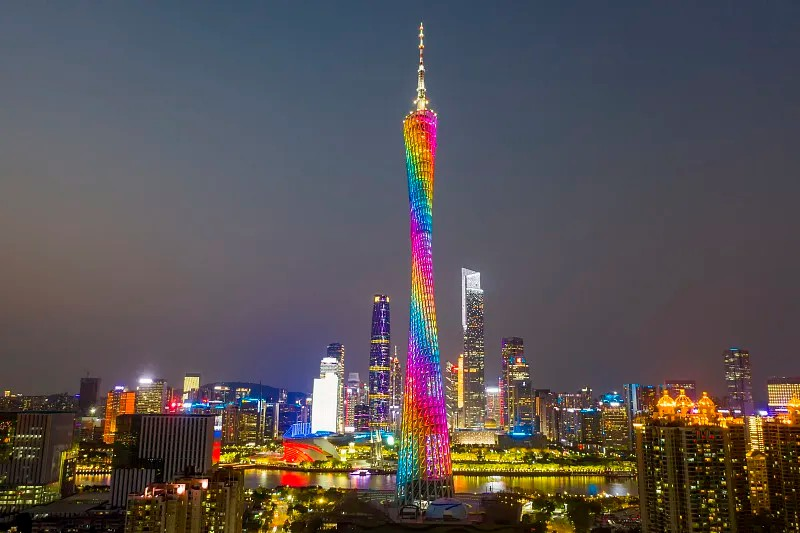Canton: (399, 21, 456, 502)
